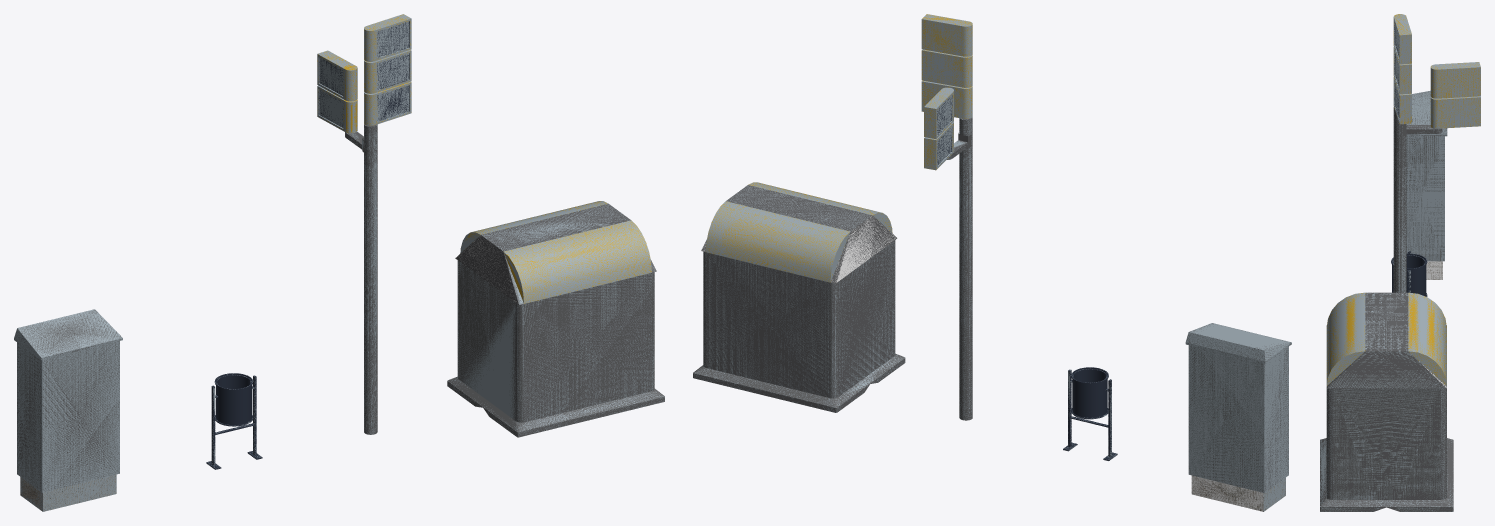
The model's file is StreetProps.fbx.
The picture shows the model from 3 angles, left to right: view 1: azimuth 30°, elevation 25°; view 2: azimuth 150°, elevation 25°; view 3: azimuth 270°, elevation 25°; orthographic projection. The views are drawn at different scales.
Visible parts, largest first — view 1: TrashContainer1, ElectronicProp1_1, TrafficLight1, Bin1, Trashbin1; view 2: TrashContainer1, ElectronicProp1_1, TrafficLight1, Bin1, Trashbin1; view 3: TrashContainer1, TrafficLight1, ElectronicProp1_1, Bin1.
Part boxes in pixels (box(x1,y1,x2,y2)): TrashContainer1: box(447, 201, 664, 437); ElectronicProp1_1: box(14, 309, 122, 511); TrafficLight1: box(317, 14, 411, 434); Bin1: box(214, 373, 253, 426); Trashbin1: box(206, 375, 262, 469); TrashContainer1: box(693, 182, 905, 412); ElectronicProp1_1: box(1185, 323, 1291, 511); TrafficLight1: box(921, 14, 972, 420); Bin1: box(1071, 367, 1108, 419); Trashbin1: box(1063, 369, 1117, 460); TrashContainer1: box(1320, 292, 1453, 511); TrafficLight1: box(1393, 14, 1480, 292); ElectronicProp1_1: box(1406, 90, 1447, 279); Bin1: box(1391, 253, 1427, 296).
Bounding box in the file's own units: 593 × 392 × 151.
